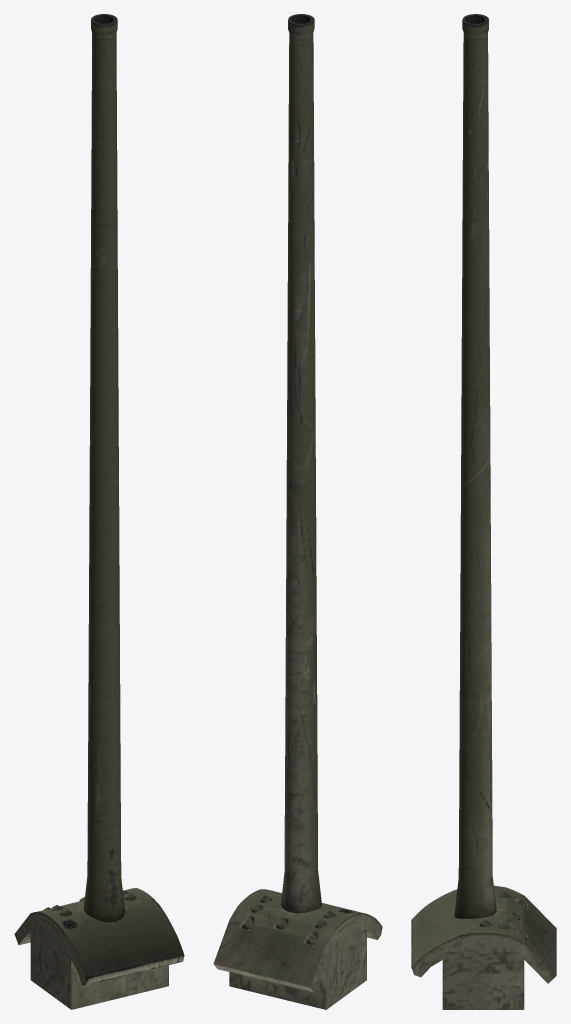
File: Gun_01.glb
3 views of the same model, side by side, from view 1: azimuth 30°, elevation 25°; view 2: azimuth 150°, elevation 25°; view 3: azimuth 270°, elevation 25° (orthographic).
Parts seen in each view (by area): view 1: set_0_group_0; view 2: set_0_group_0; view 3: set_0_group_0.
Part boxes in pixels (left/top/right/bottom): set_0_group_0: left=14, top=14, right=184, bottom=1009; set_0_group_0: left=213, top=14, right=382, bottom=1009; set_0_group_0: left=411, top=14, right=556, bottom=1009.
Bounding box in the file's own units: 0.6379 × 6.04 × 0.8232.
Materials: 1 (1 with a texture image).
